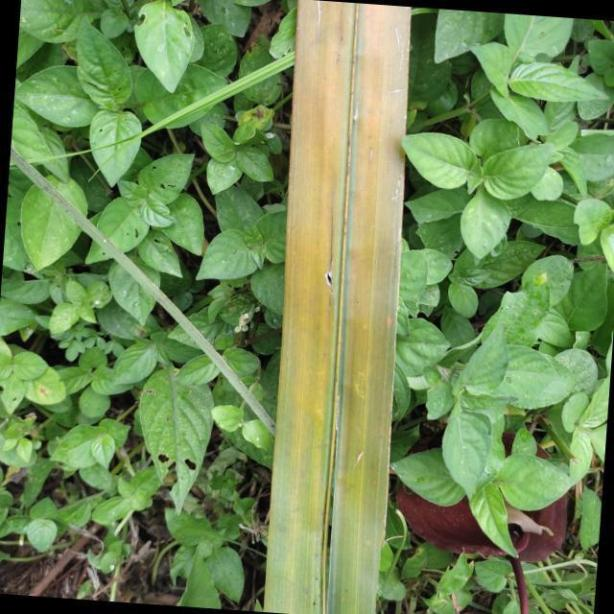Megnesium: (258, 0, 414, 614)
